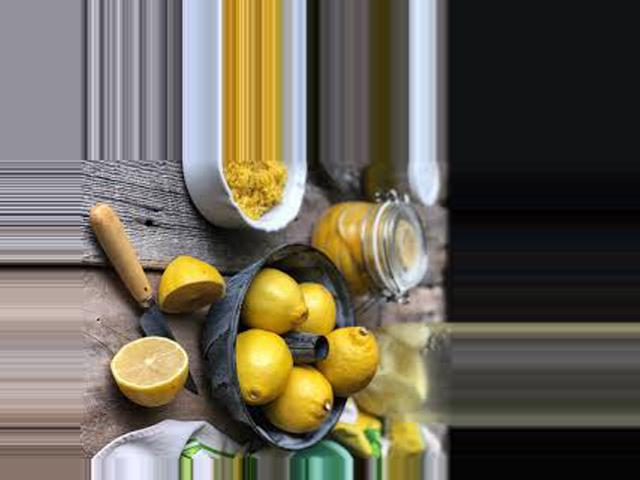lemon: (239, 268, 304, 328)
